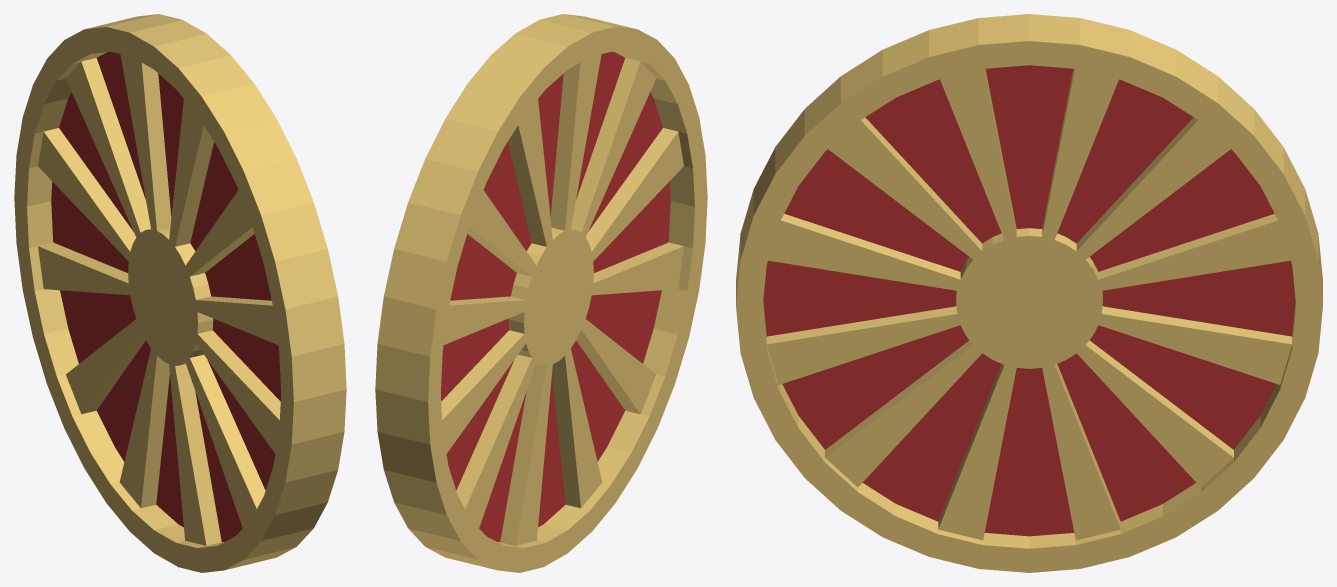
3 renders of one model, left to right at view 1: azimuth 30°, elevation 25°; view 2: azimuth 150°, elevation 25°; view 3: azimuth 270°, elevation 25°, orthographic. The views are drawn at different scales.
Visible parts, largest first — view 1: 50; view 2: 50; view 3: 50.
Boxes of the visible parts, <box> form: 50: <box>14,14,346,572</box>; 50: <box>375,14,707,572</box>; 50: <box>736,14,1322,572</box>.
Bounding box in the file's own units: 21.8 × 200 × 200.
